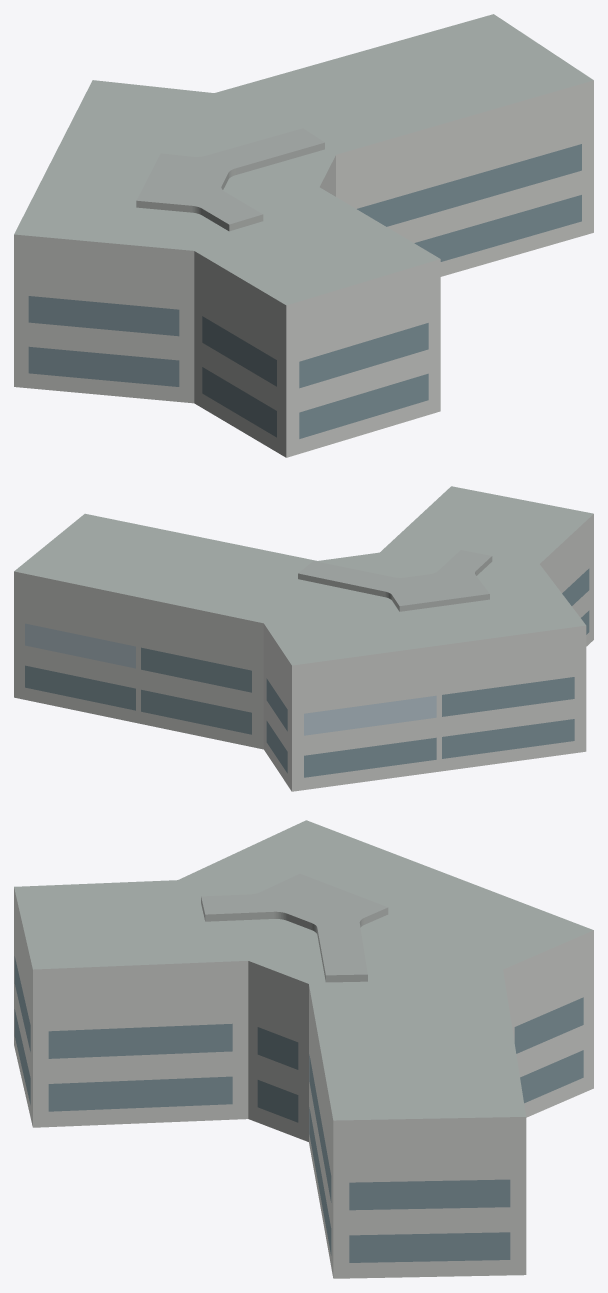
The model's file is named-apt-9ae0998f-fad7-4036-af71-71ce58e96a17.glb.
3 views of the same model, one above another, from view 1: azimuth 30°, elevation 25°; view 2: azimuth 150°, elevation 25°; view 3: azimuth 270°, elevation 25° (orthographic). The views are drawn at different scales.
Parts seen in each view (by area): view 1: named-apt-9ae0998f-fad7-4036-af71-71ce58e96a17; view 2: named-apt-9ae0998f-fad7-4036-af71-71ce58e96a17; view 3: named-apt-9ae0998f-fad7-4036-af71-71ce58e96a17.
Boxes of the visible parts, <box> form: named-apt-9ae0998f-fad7-4036-af71-71ce58e96a17: <box>14,14,593,457</box>; named-apt-9ae0998f-fad7-4036-af71-71ce58e96a17: <box>14,486,593,791</box>; named-apt-9ae0998f-fad7-4036-af71-71ce58e96a17: <box>14,820,593,1278</box>.
Bounding box in the file's own units: 37.25 × 9.56 × 30.39.
